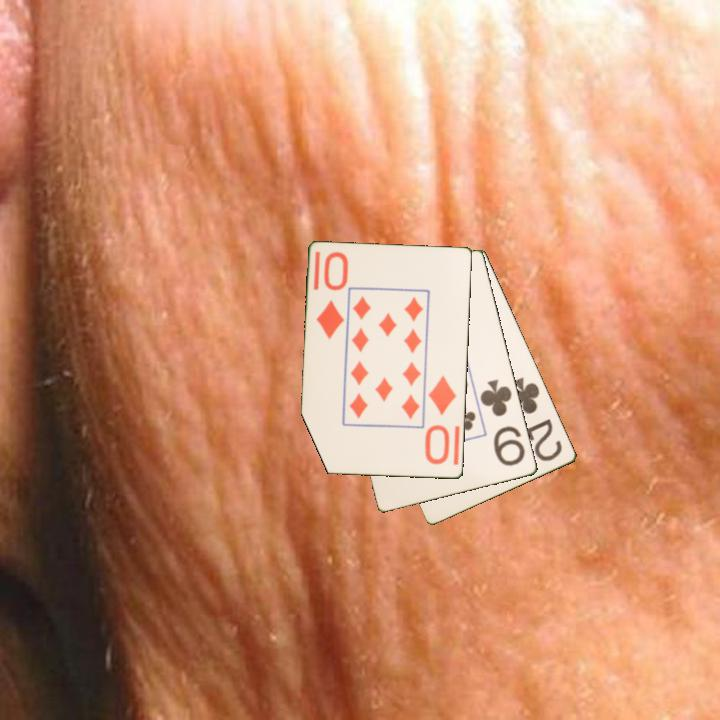10d: (422, 372, 460, 468), (313, 248, 349, 342)
2c: (505, 374, 566, 464)
9c: (477, 376, 528, 469)
